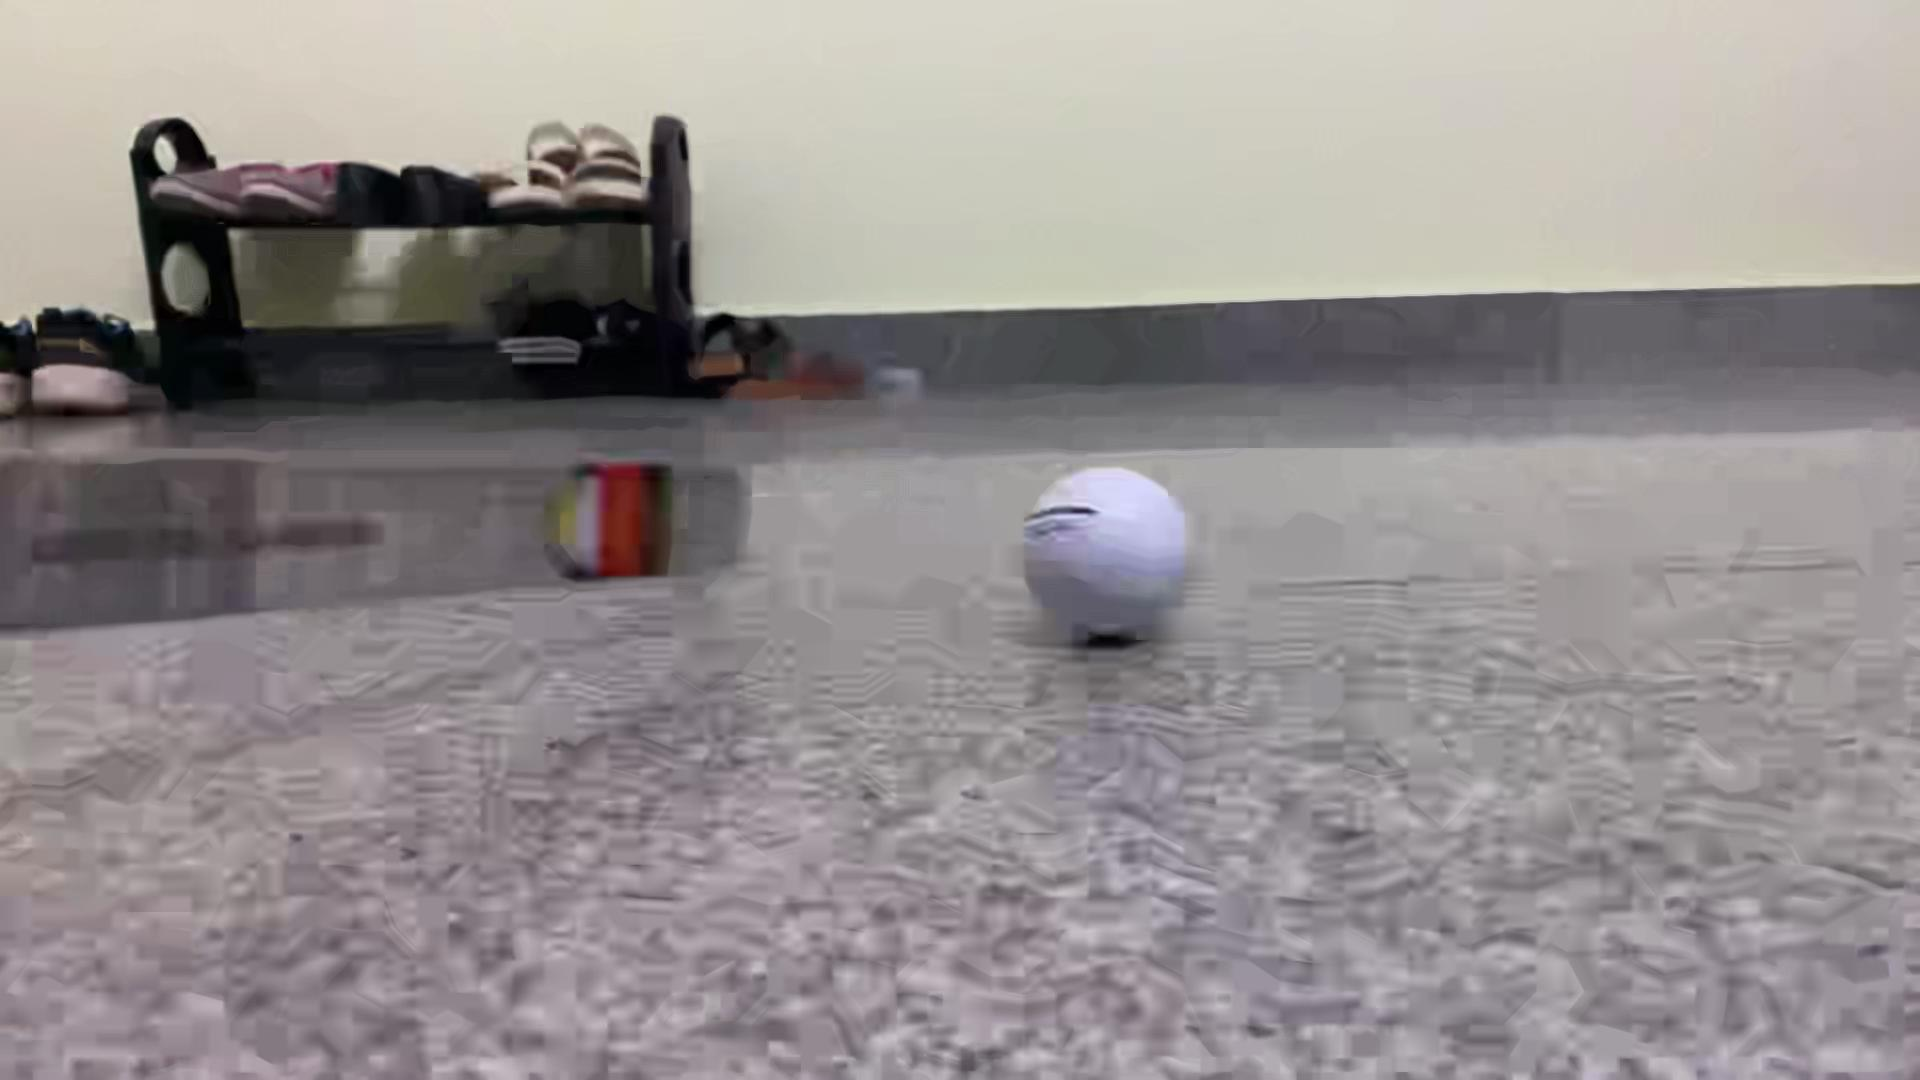golfball: (1018, 467, 1193, 633)
